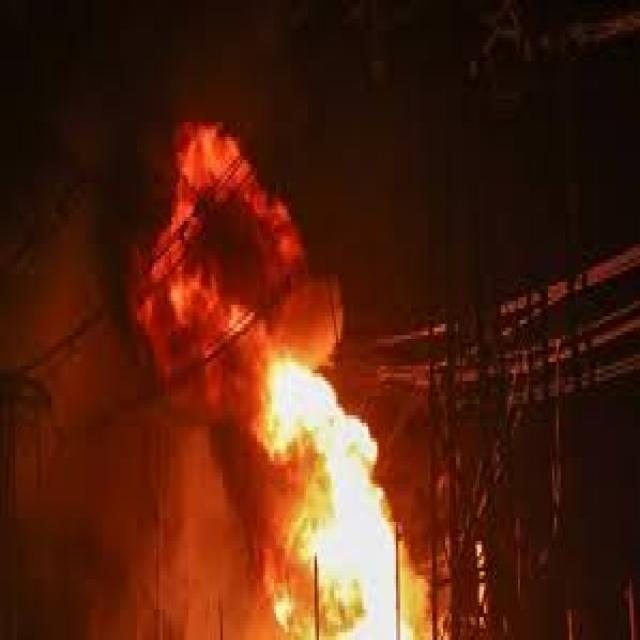fire: (135, 118, 426, 640)
